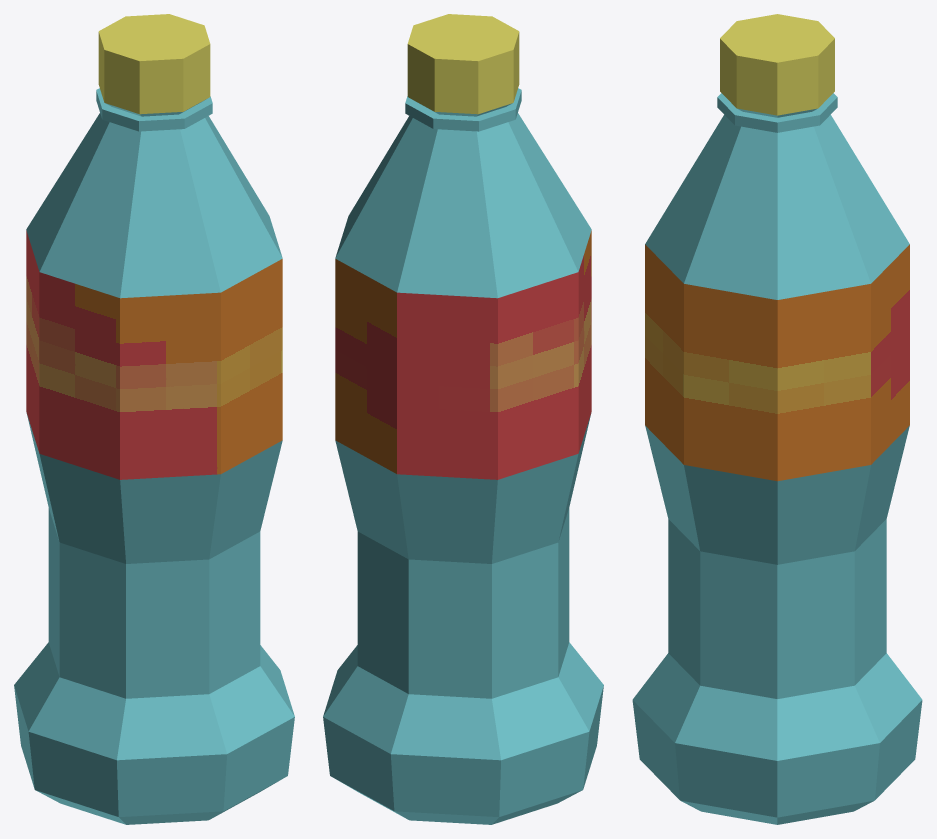
The model's file is Soda_03.glb.
The picture shows the model from 3 angles, left to right: view 1: azimuth 30°, elevation 25°; view 2: azimuth 150°, elevation 25°; view 3: azimuth 270°, elevation 25°; orthographic projection.
Parts seen in each view (by area): view 1: Soda_03; view 2: Soda_03; view 3: Soda_03.
Part boxes in pixels (box(x1,y1,x2,y2)): Soda_03: box(14, 14, 294, 824); Soda_03: box(323, 14, 603, 824); Soda_03: box(632, 14, 922, 824).
Bounding box in the file's own units: 0.0798 × 0.225 × 0.0798.
1 material, 1 textured.
